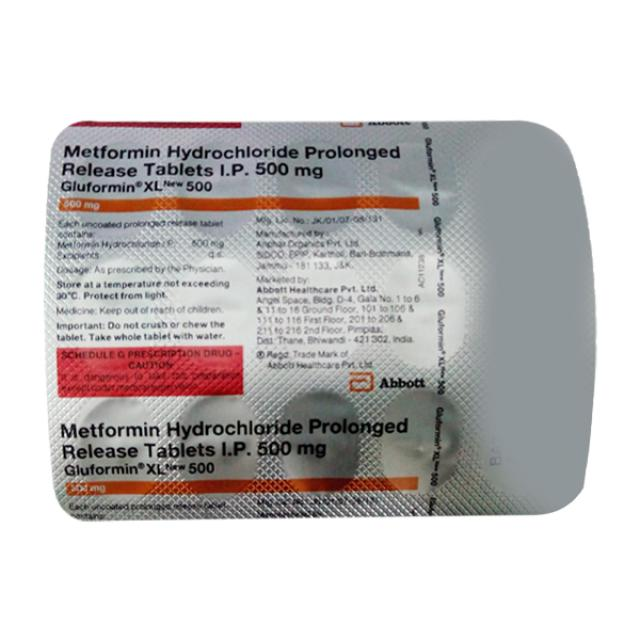Medicine-name: (59, 139, 405, 181)
